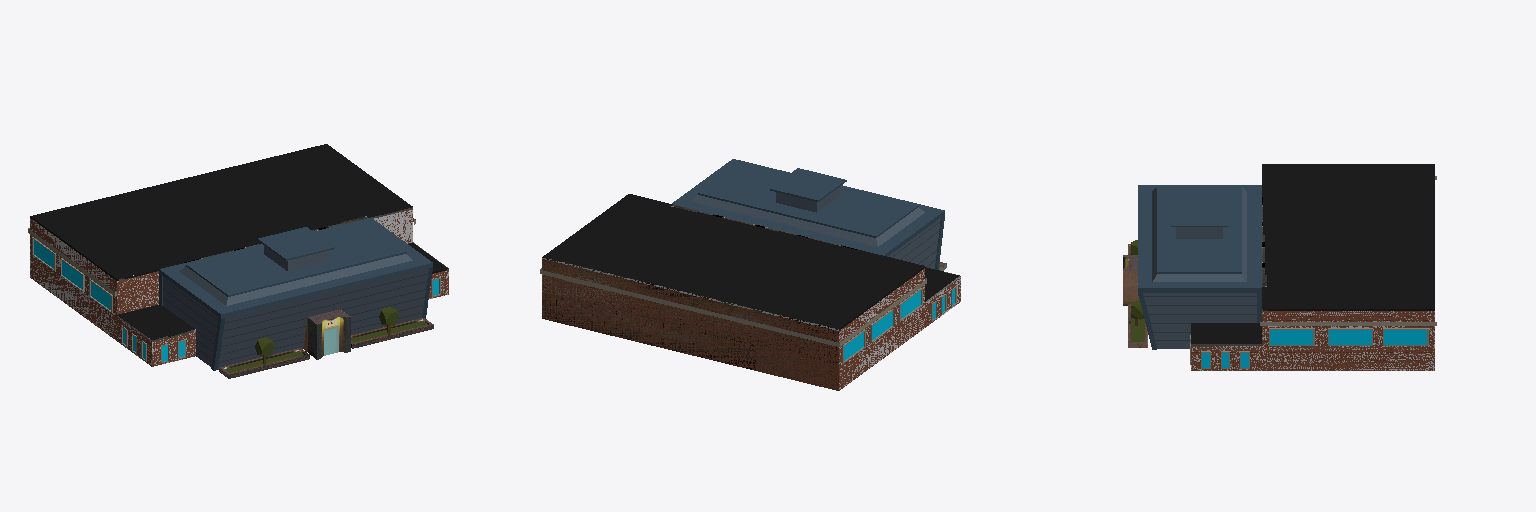
The picture shows the model from 3 angles: view 1: azimuth 30°, elevation 25°; view 2: azimuth 150°, elevation 25°; view 3: azimuth 270°, elevation 25°; orthographic projection.
Visible parts, largest first — view 1: Mesh5 Model, Mesh6 Model, Mesh7 Model; view 2: Mesh5 Model; view 3: Mesh5 Model, Mesh7 Model.
Part boxes in pixels (x1,y1,x2,y2): Mesh5 Model: (28, 144, 448, 370); Mesh6 Model: (219, 348, 309, 378); Mesh7 Model: (351, 318, 433, 348); Mesh5 Model: (540, 159, 960, 390); Mesh5 Model: (1123, 164, 1436, 370); Mesh7 Model: (1128, 304, 1147, 347).
Bounding box in the file's own units: 35.55 × 9.6 × 32.2.
22 materials, 8 textured.